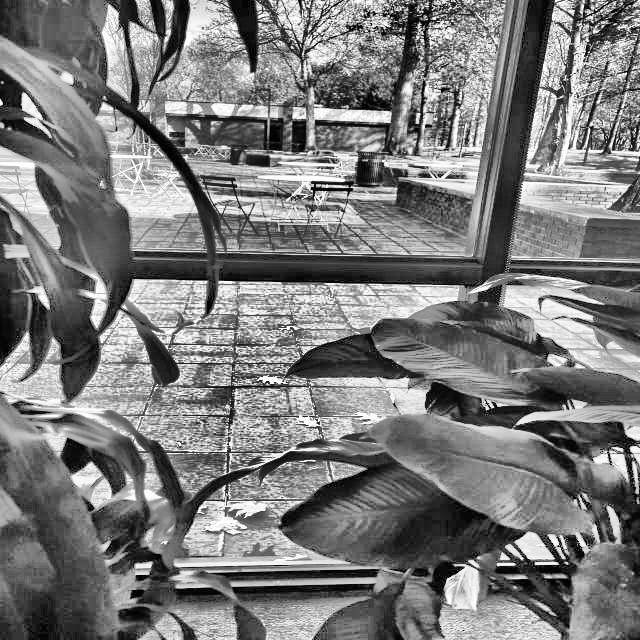plants: (0, 0, 186, 634), (449, 314, 640, 640)
